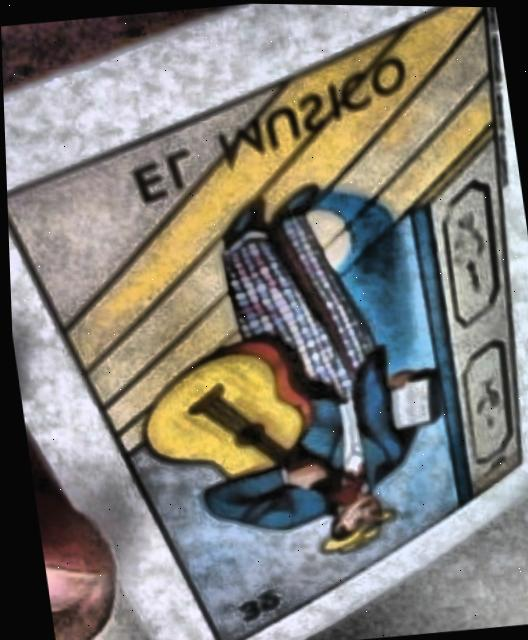El Musico: (6, 5, 520, 640)
